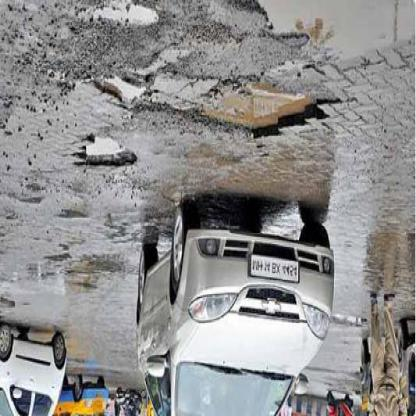pothole: (93, 65, 340, 145), (214, 3, 416, 64), (72, 133, 138, 174), (86, 4, 160, 29)
